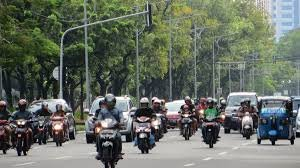motor: (91, 119, 122, 167), (132, 116, 153, 155), (200, 117, 218, 146), (179, 113, 195, 142)
